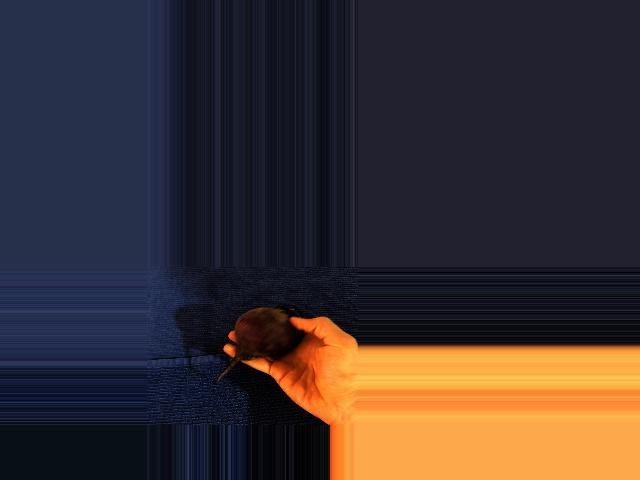beet: (216, 304, 302, 382)
